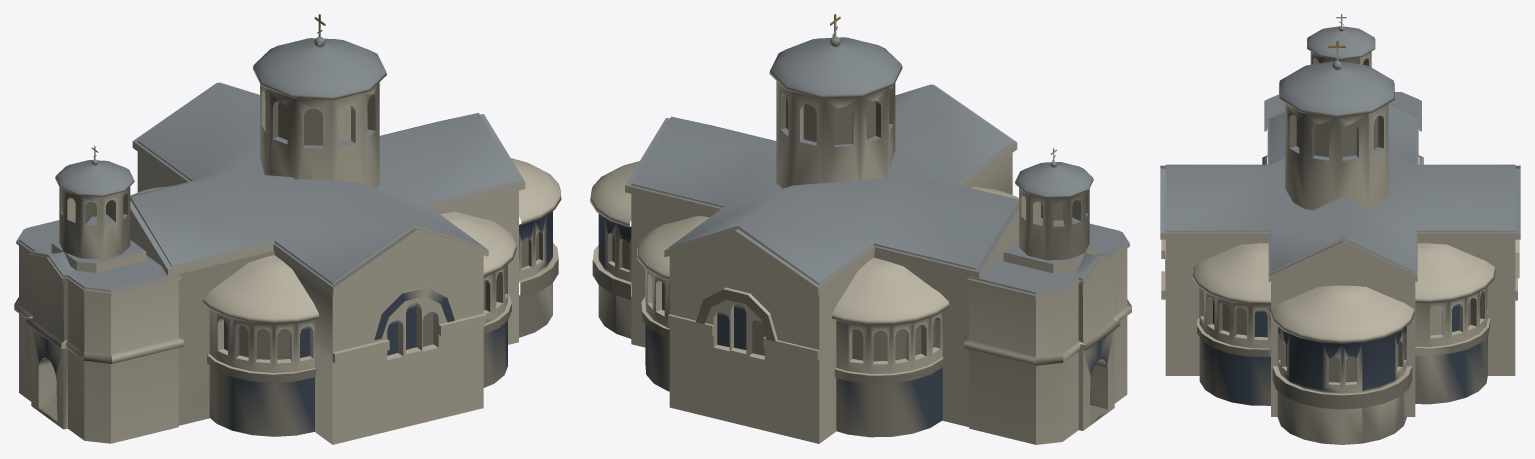
The picture shows the model from 3 angles, left to right: view 1: azimuth 30°, elevation 25°; view 2: azimuth 150°, elevation 25°; view 3: azimuth 270°, elevation 25°; orthographic projection. The views are drawn at different scales.
Visible parts, largest first — view 1: polySurface46:PIV; view 2: polySurface46:PIV; view 3: polySurface46:PIV.
Part boxes in pixels (x1,y1,x2,y2): polySurface46:PIV: (14, 14, 561, 444); polySurface46:PIV: (590, 14, 1131, 444); polySurface46:PIV: (1160, 14, 1520, 444).
Size of the model in its own units: 28.21 by 18.06 by 19.32.
